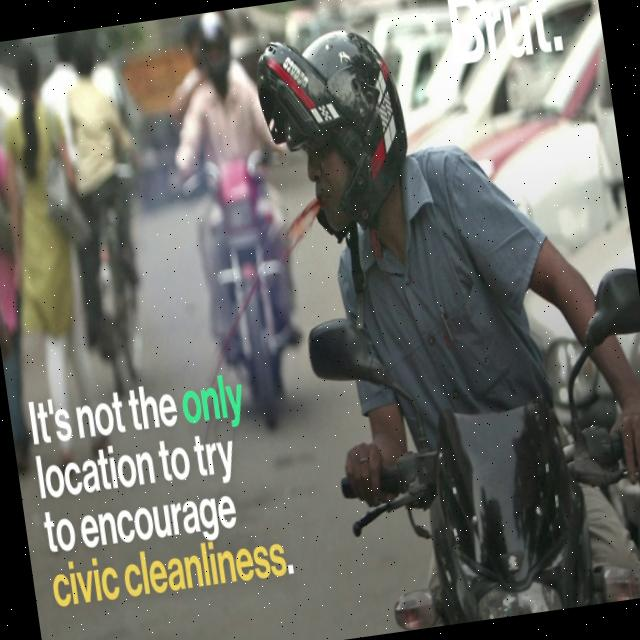spit: (203, 156, 359, 365)
